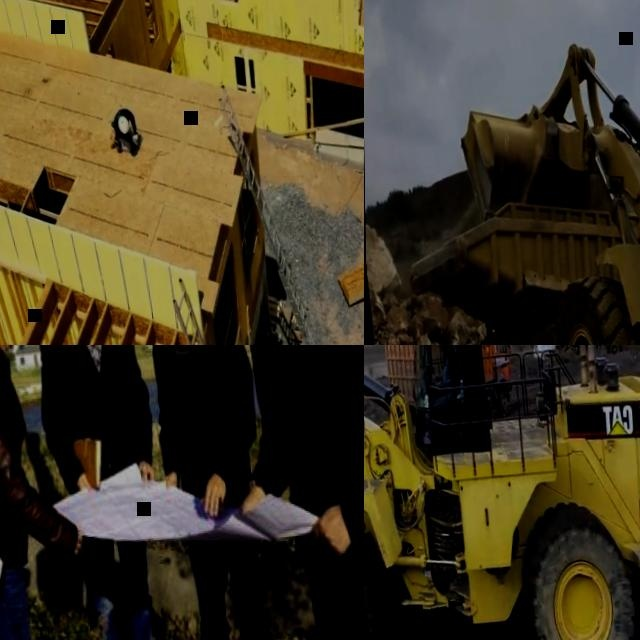Hardhat: (116, 115, 129, 135)
NO-Mask: (440, 349, 447, 358)
NO-Safety Vest: (300, 345, 364, 635), (157, 345, 241, 495), (47, 345, 138, 480), (268, 345, 317, 558), (0, 345, 28, 560), (112, 109, 126, 134), (439, 359, 450, 387)
Person: (20, 345, 177, 640), (139, 345, 283, 640), (221, 345, 346, 640), (252, 345, 364, 640), (0, 345, 97, 640), (425, 345, 454, 403), (110, 108, 137, 156)
machinery: (364, 345, 640, 640), (451, 0, 640, 345), (399, 179, 640, 345), (374, 345, 518, 430), (526, 345, 635, 368)
